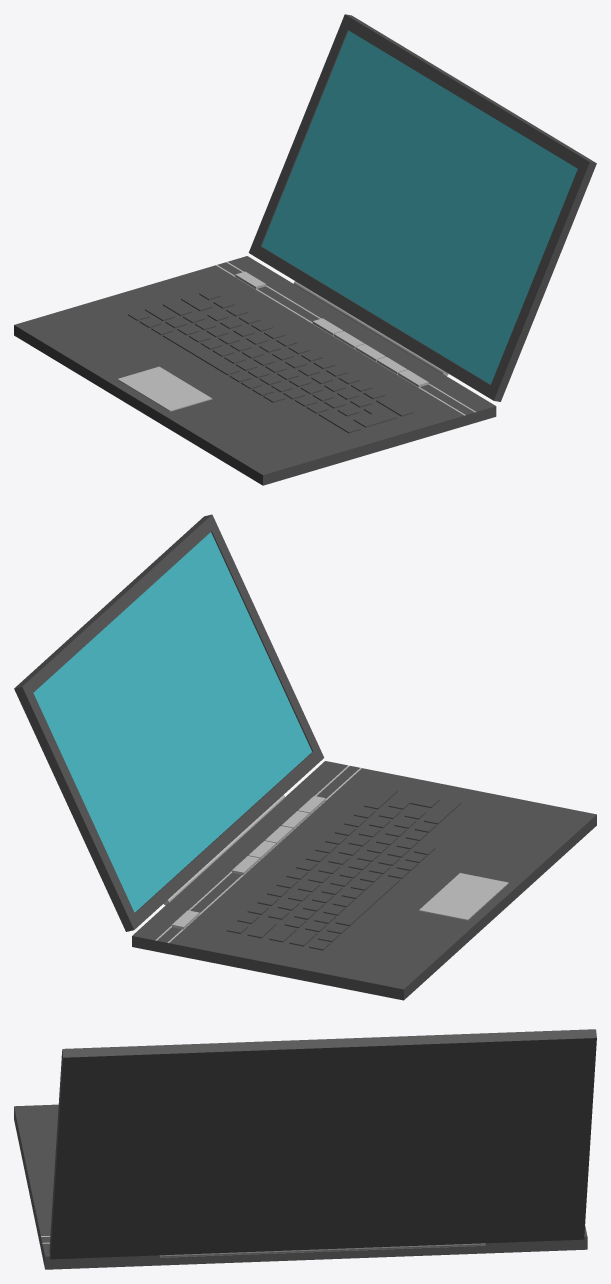
Rendered from Laptop.gltf.
3 renders of one model, top to bottom at view 1: azimuth 30°, elevation 25°; view 2: azimuth 150°, elevation 25°; view 3: azimuth 270°, elevation 25°, orthographic. The views are drawn at different scales.
Visible parts, largest first — view 1: Box20311, Box20329, Box20312, Box20322, Cylinder011; view 2: Box20311, Box20329, Box20312, Box20322; view 3: Box20311, Box20329, Cylinder011.
Boxes of the visible parts, x1,y1,x2,y2 form: Box20311: (248,14,596,401); Box20329: (14,256,496,485); Box20312: (117,366,212,411); Box20322: (162,331,239,375); Cylinder011: (293,281,448,375); Box20311: (14,514,324,931); Box20329: (132,761,596,1000); Box20312: (419,873,508,920); Box20322: (335,876,400,926); Box20311: (49,1029,596,1259); Box20329: (14,1104,587,1269); Cylinder011: (159,1243,485,1257).
Bounding box in the file's own units: 952 × 530 × 992.
